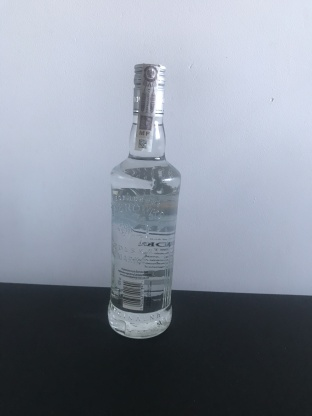nakretka: (129, 57, 168, 120)
